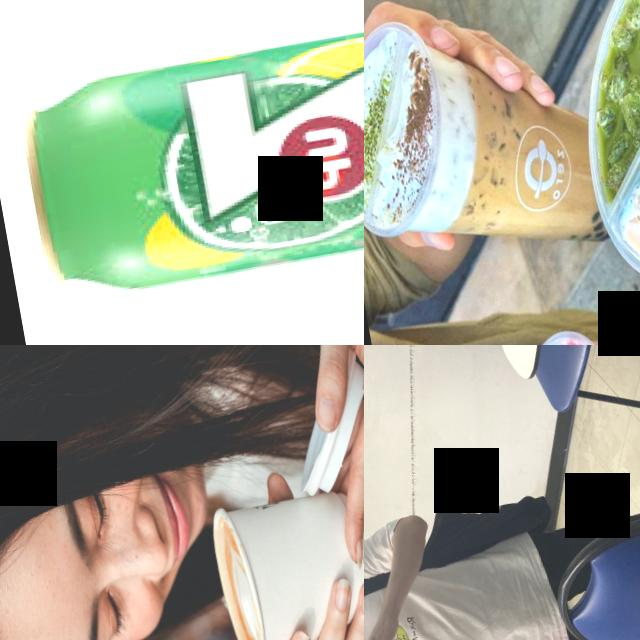can: (11, 0, 364, 304)
cup: (364, 0, 618, 289), (550, 0, 640, 343), (205, 477, 364, 640)
